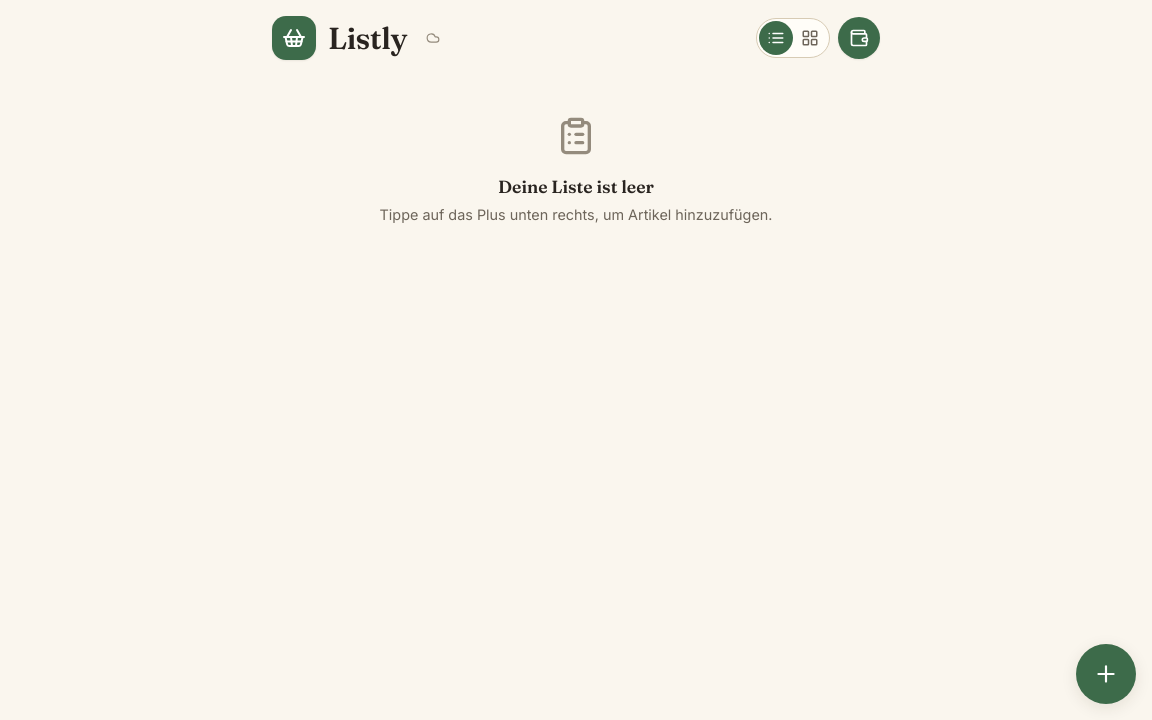
Scenario: App (smoke test, local mode) › persists an added item to (mocked) localStorage in local mode
This screenshot has width=1152, height=720.
Click the button named "Artikel hinzufügen" at (1106, 674), box [1076,644,1136,704]
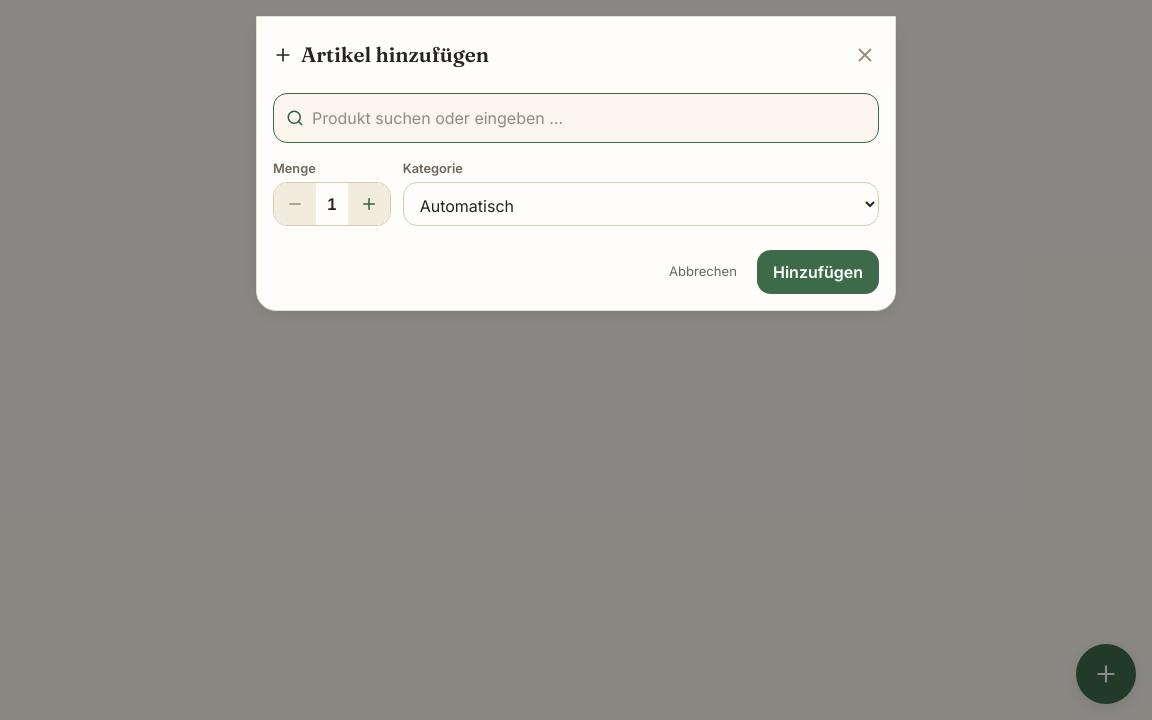
Type "Hafermilch" into the dropdown named "Produkt suchen oder hinzufügen" at (589, 118), box [312,94,866,142]
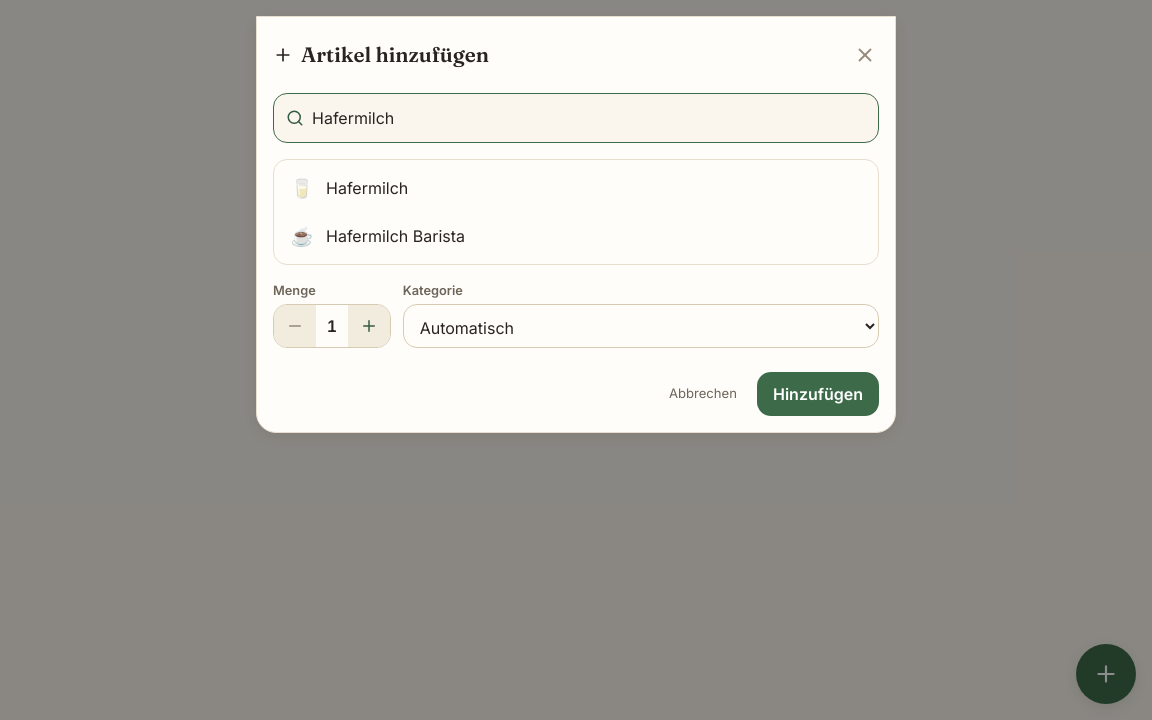
Click the button "Hinzufügen" at (818, 394), box [757,372,879,416]
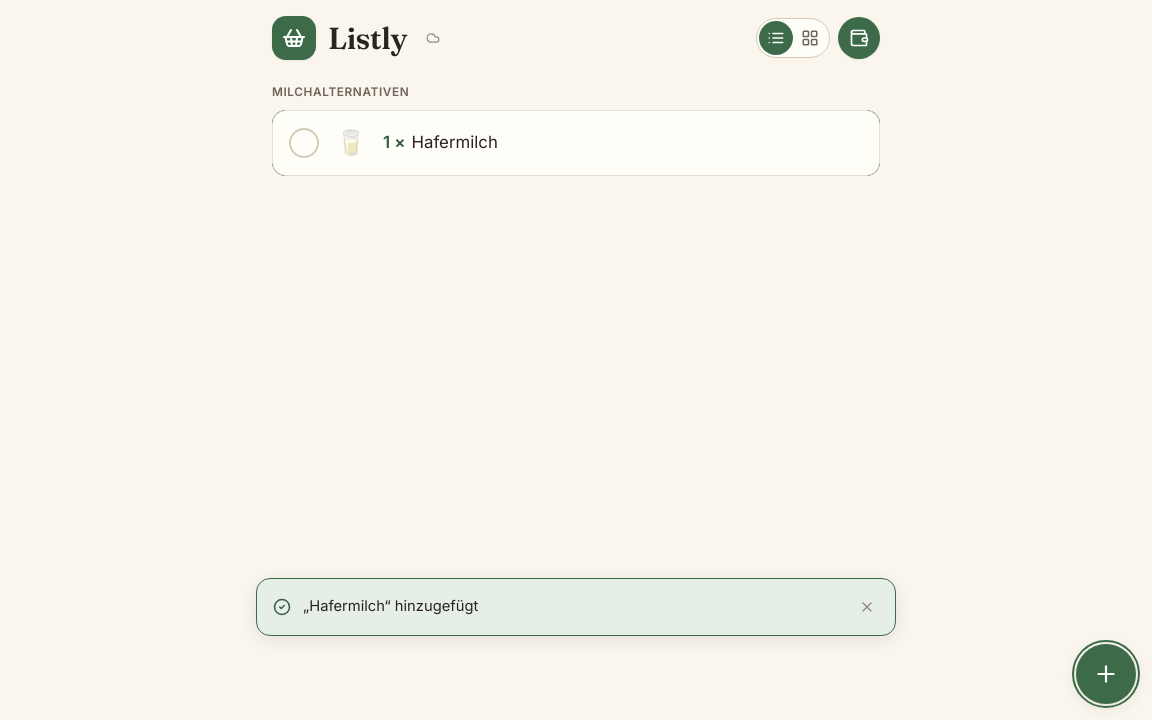
Expected: the text "Hafermilch" is shown, [412,132,498,152]
